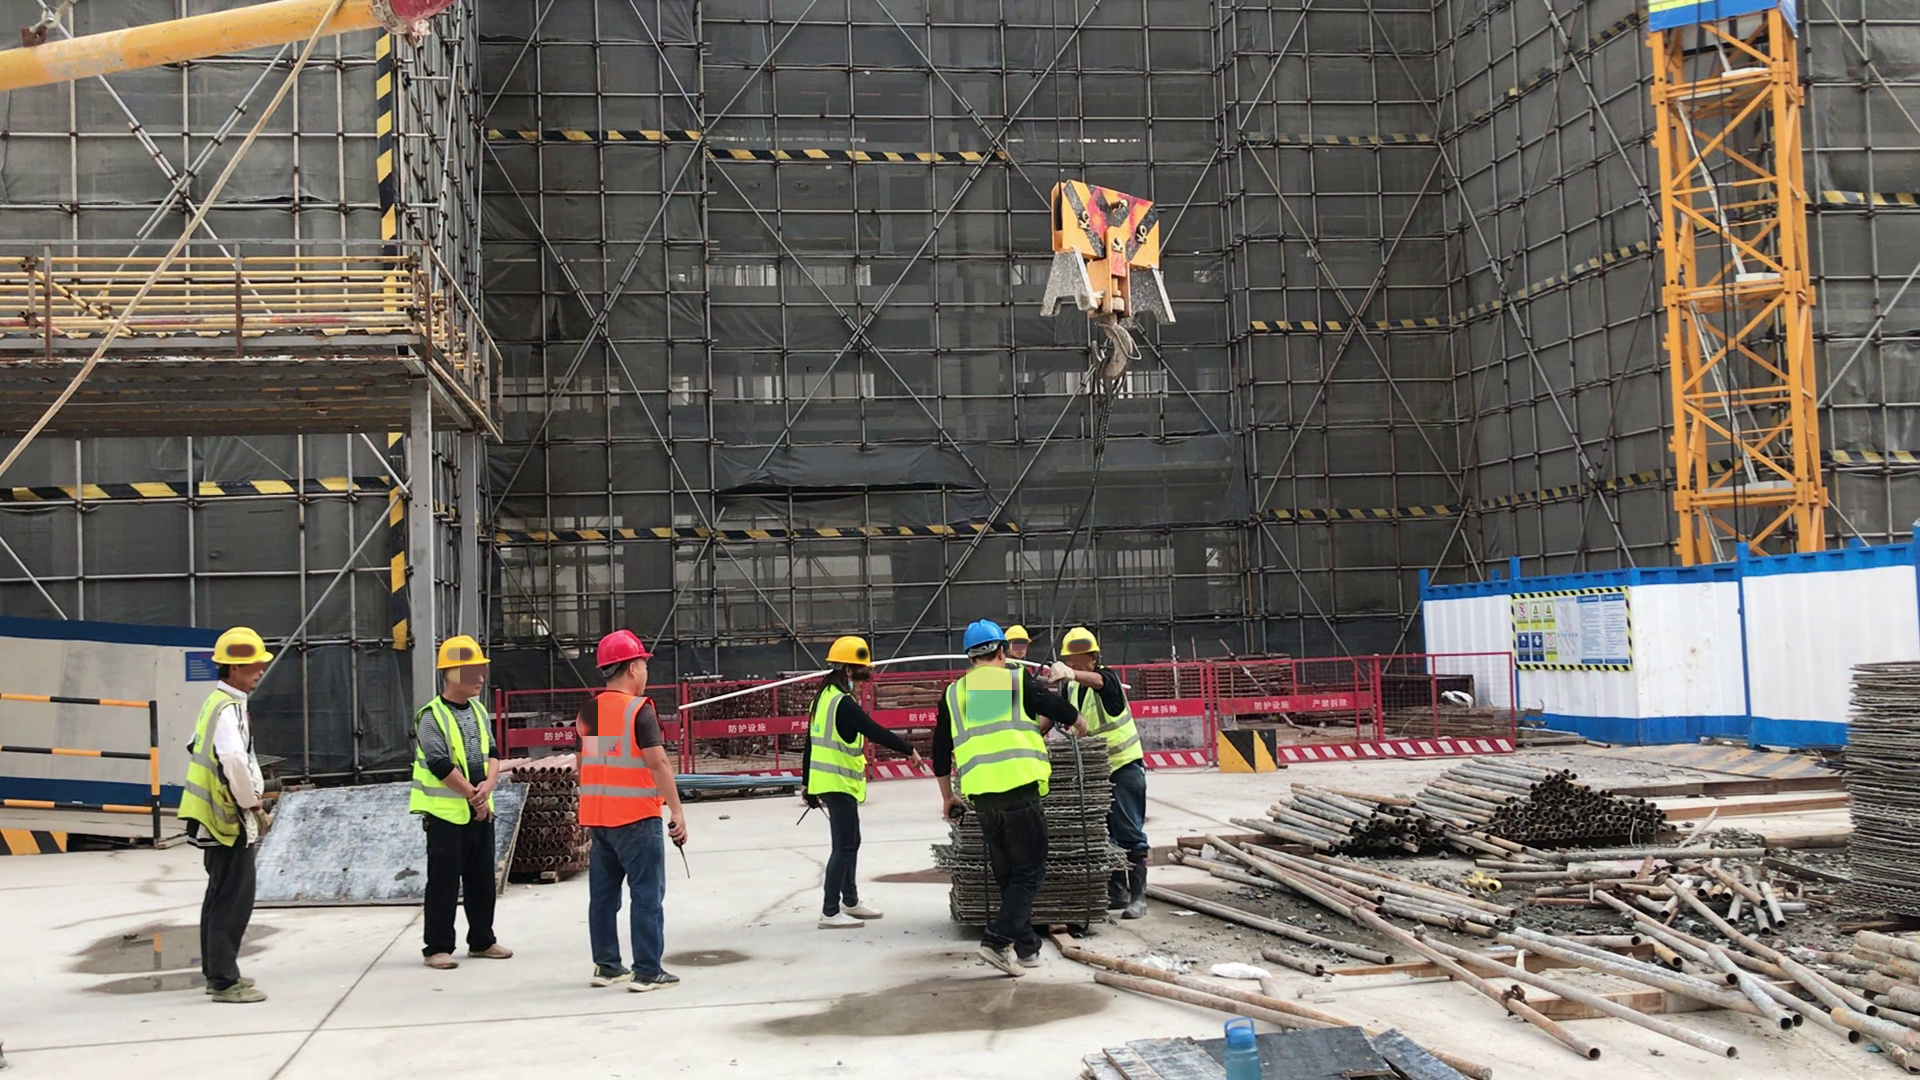helmet: (209, 628, 272, 665), (595, 630, 654, 666), (436, 637, 491, 671), (824, 638, 876, 670), (1060, 628, 1102, 657), (961, 622, 1006, 649), (1006, 624, 1030, 645)
person: (935, 619, 1092, 980), (571, 627, 692, 993), (402, 635, 525, 973), (177, 627, 274, 1005), (805, 635, 927, 930), (1056, 629, 1139, 742), (1006, 624, 1029, 667)
vest: (947, 664, 1053, 798), (577, 690, 671, 830), (178, 688, 252, 852), (411, 696, 498, 827), (810, 684, 870, 804), (1067, 676, 1134, 740)
